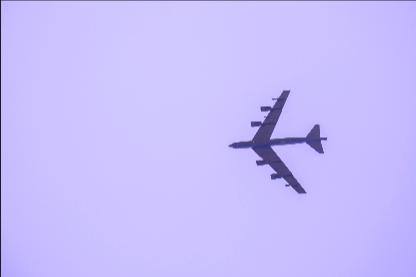B2: (226, 90, 326, 194)
